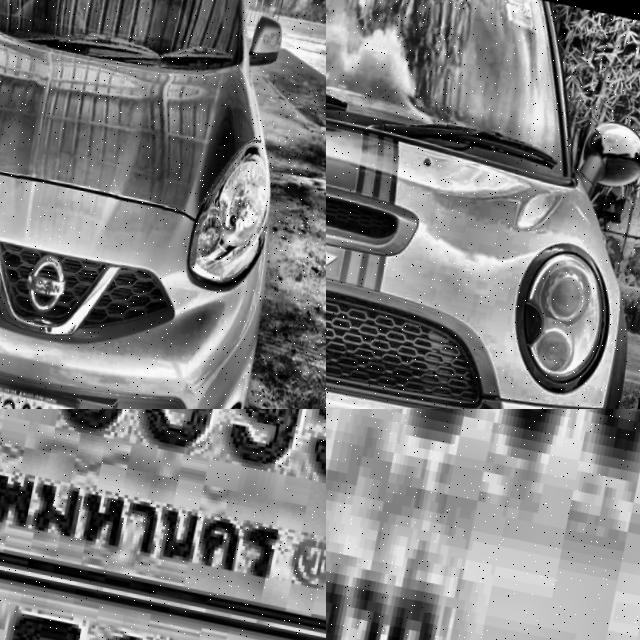license-plate: (0, 409, 326, 635), (326, 409, 640, 640), (0, 510, 326, 640), (0, 368, 93, 409)
